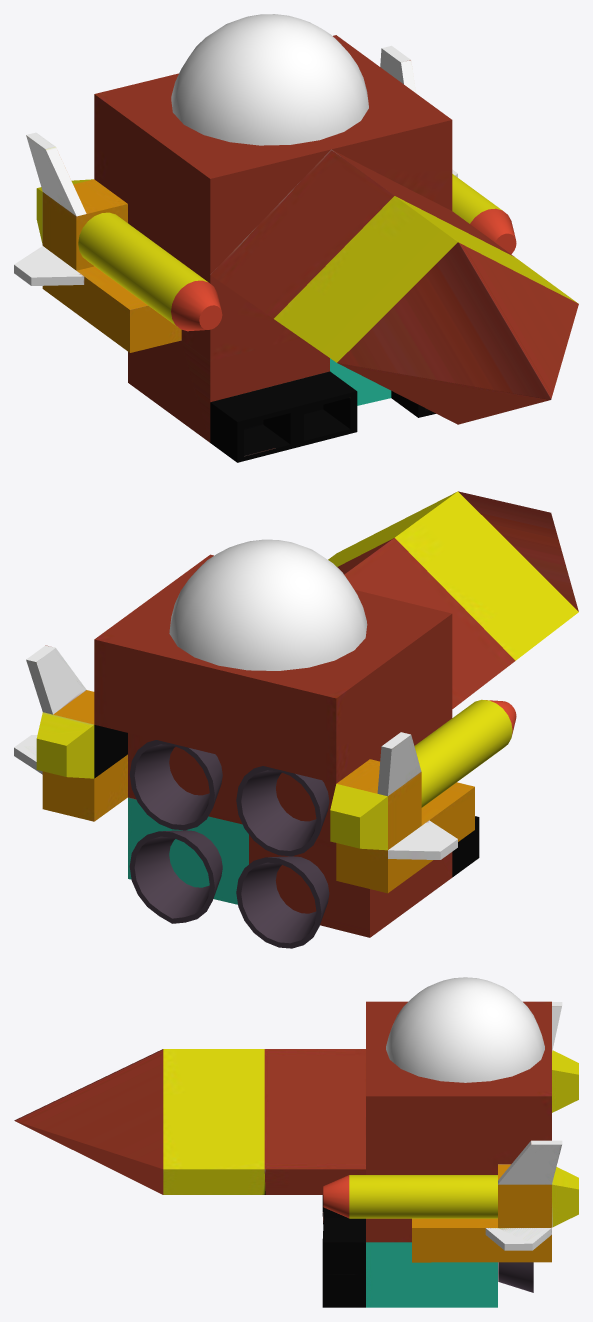
The model's file is ship_gummi.glb.
3 renders of one model, top to bottom at view 1: azimuth 30°, elevation 25°; view 2: azimuth 150°, elevation 25°; view 3: azimuth 270°, elevation 25°, orthographic. The views are drawn at different scales.
Visible parts, largest first — view 1: Object_3, Object_2, Object_4, Object_5; view 2: Object_3, Object_6, Object_2, Object_4; view 3: Object_3, Object_2, Object_5, Object_6.
Boxes of the visible parts, x1,y1,x2,y2 form: Object_3: (14,35,578,462); Object_2: (171,14,368,145); Object_4: (78,212,222,331); Object_5: (452,174,516,254); Object_3: (14,491,578,937); Object_6: (129,740,329,948); Object_2: (169,539,367,670); Object_4: (414,699,516,807); Object_3: (14,1001,578,1307); Object_2: (386,977,544,1082); Object_5: (323,1175,497,1218); Object_6: (498,1262,533,1292).
Bounding box in the file's own units: 28.24 × 22.57 × 40.44.
5 materials, 4 textured.
